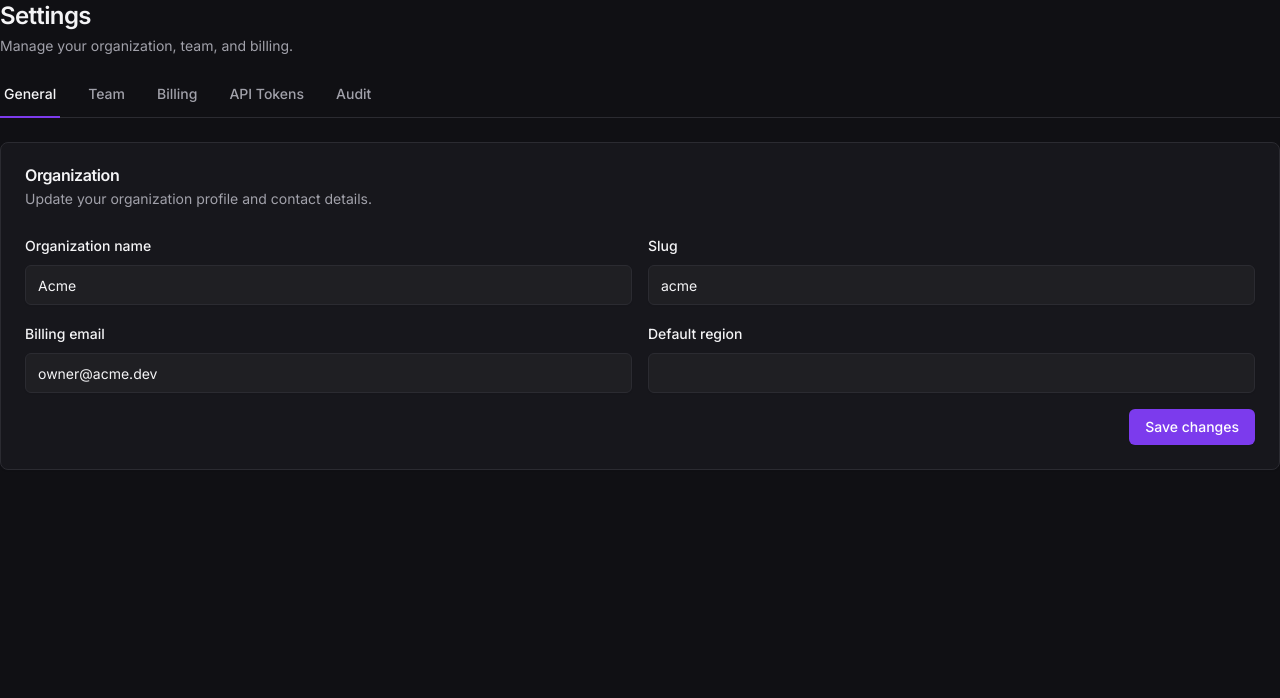
Test: Settings — Team mutations behind ConfirmDialog + refetch › does not remove a member when the confirm dialog is cancelled
Click the tab "Team" at (107, 99), box [84,80,129,118]
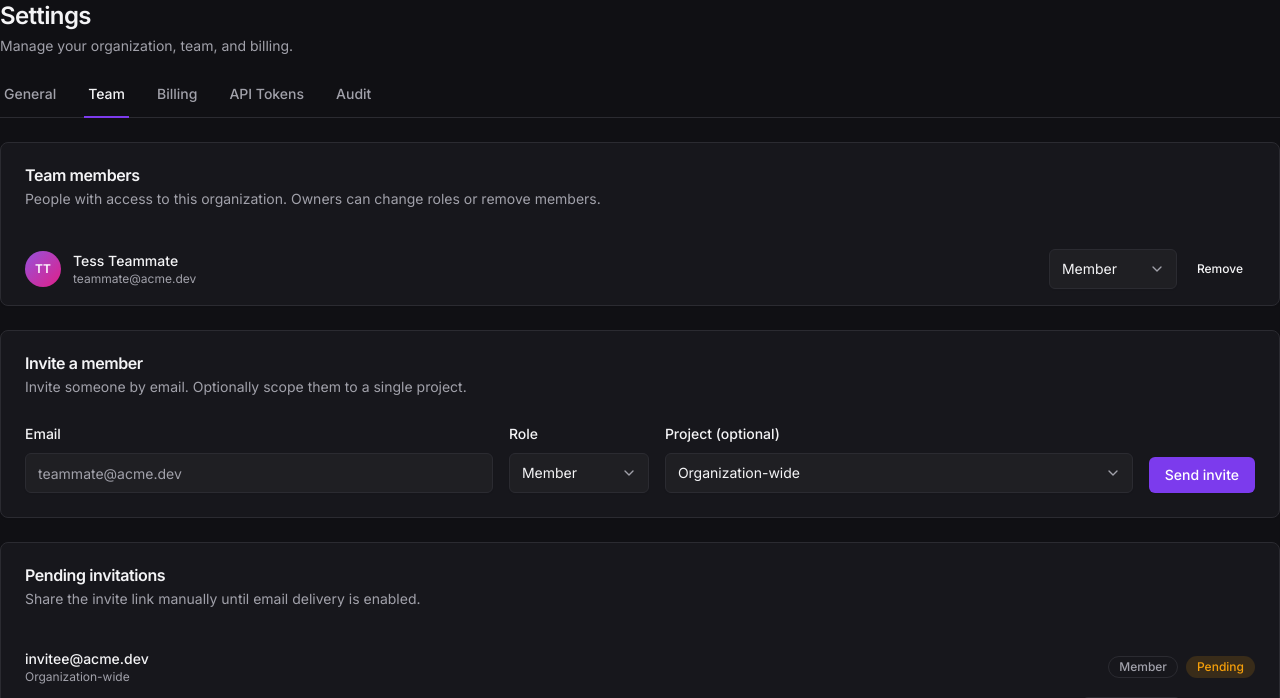
Now the text "Tess Teammate" is shown, box [73,251,196,271]
Click the button "Remove" at (1220, 269), box [1185,253,1255,285]
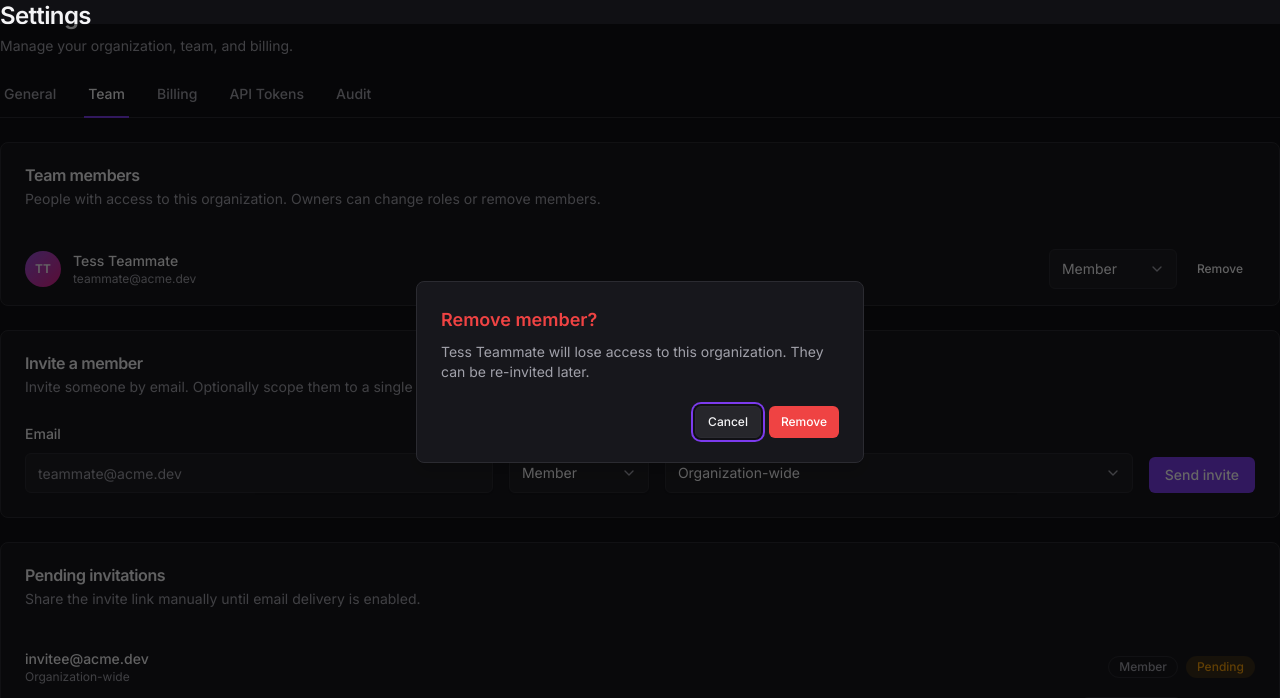
Click the button "Cancel" at (728, 422), box [695,406,761,438]
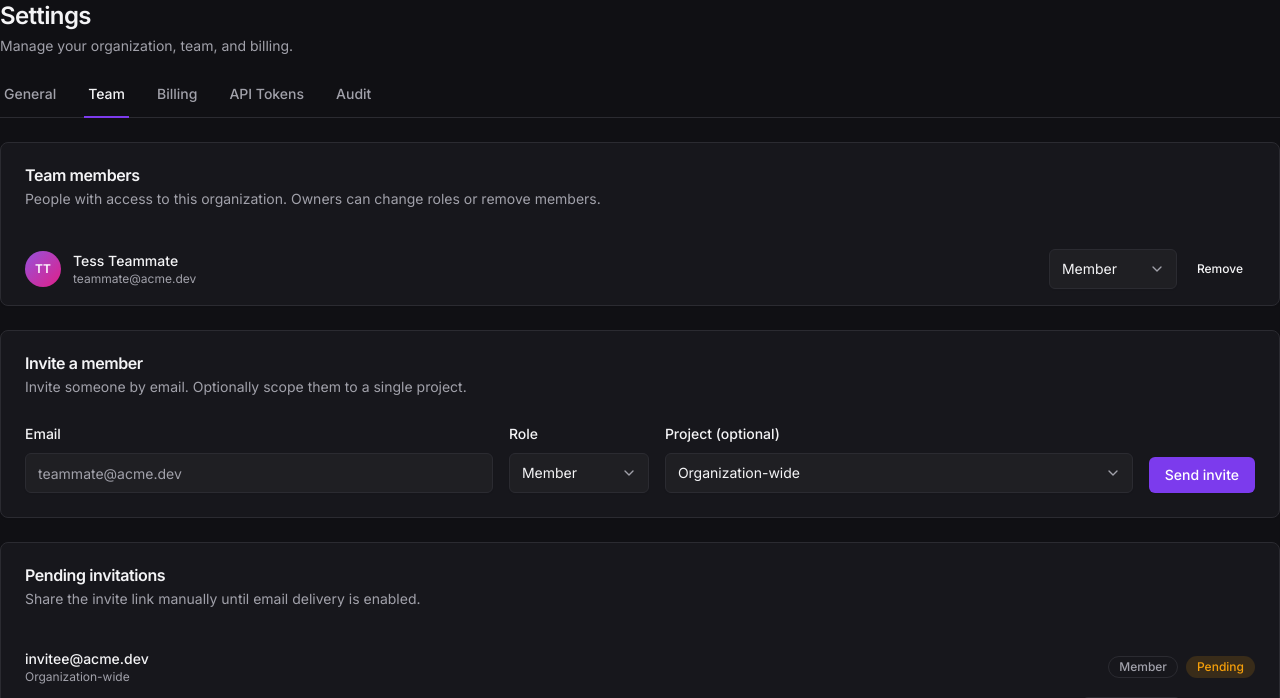
Now the dialog is gone
